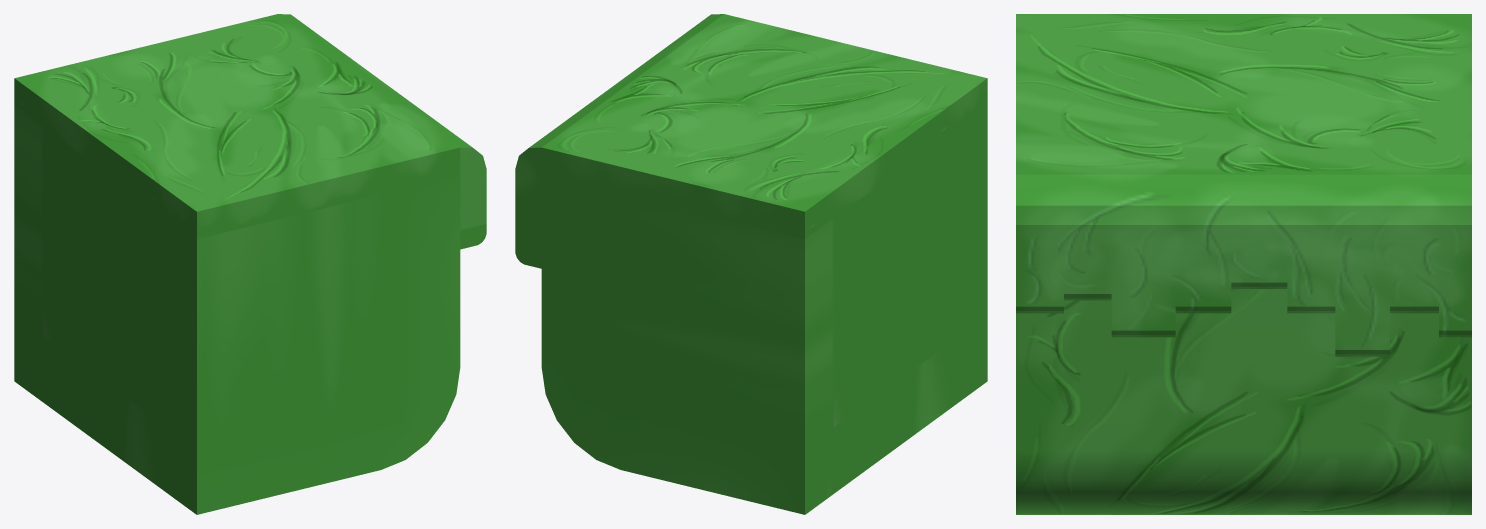
Rendered from Grass_Block.fbx.
3 views of the same model, side by side, from view 1: azimuth 30°, elevation 25°; view 2: azimuth 150°, elevation 25°; view 3: azimuth 270°, elevation 25° (orthographic). The views are drawn at different scales.
Visible parts, largest first — view 1: pCube45, pCube6, pCube4; view 2: pCube45, pCube6, pCube4; view 3: pCube45, pCube6, pCube4.
Boxes of the visible parts, bbox=[...] form: pCube45: bbox=[14, 106, 460, 514]; pCube6: bbox=[14, 14, 460, 239]; pCube4: bbox=[278, 14, 486, 249]; pCube45: bbox=[541, 106, 987, 514]; pCube6: bbox=[541, 14, 987, 239]; pCube4: bbox=[515, 14, 723, 268]; pCube45: bbox=[1016, 289, 1471, 514]; pCube6: bbox=[1016, 14, 1471, 174]; pCube4: bbox=[1016, 174, 1471, 356].
Bounding box in the file's own units: 5.5 × 5.5 × 6.
Materials: 1 (1 with a texture image).
